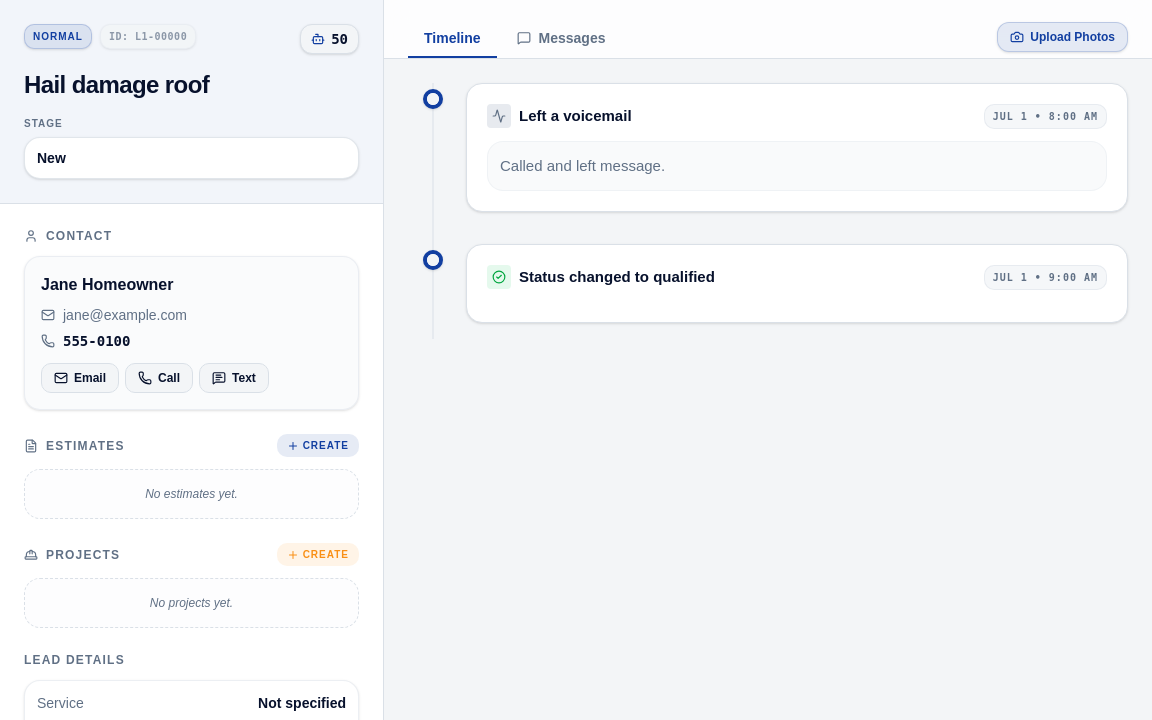
Test: lead detail – Messages tab › shows the empty-state placeholder when no portal or team messages exist
Click the button "Messages": (561, 39) [500, 20, 621, 58]
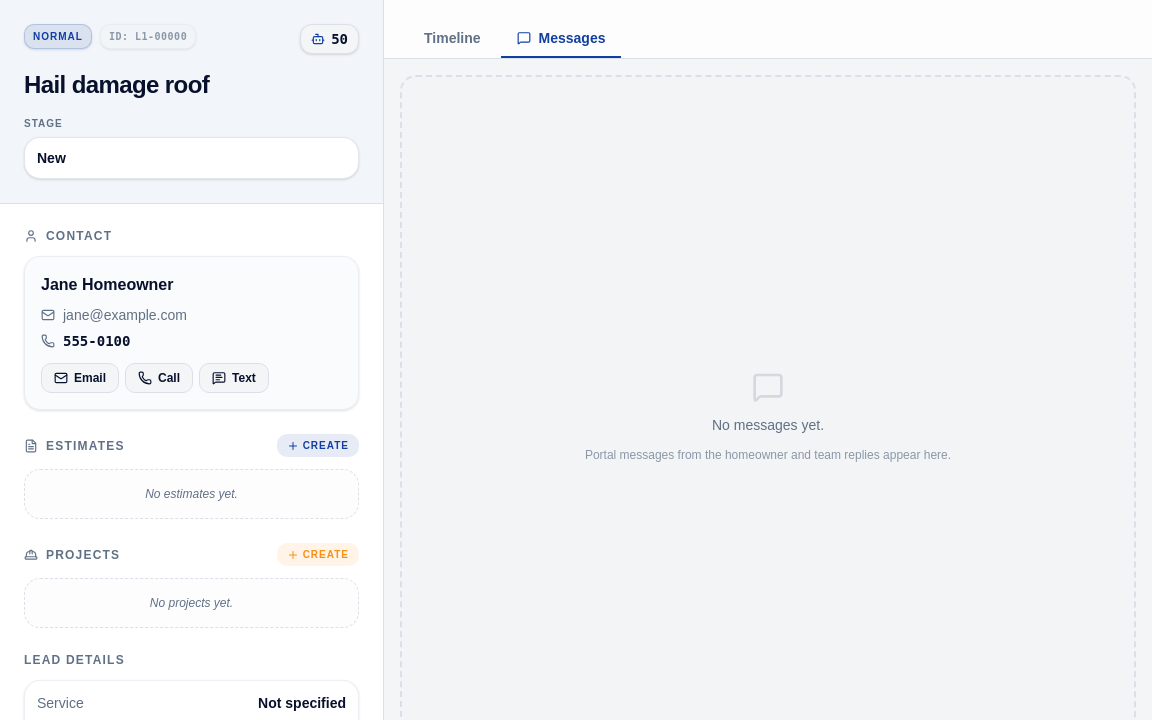
Result: the text "No messages yet." is shown at [712, 415, 824, 435]
Result: the text "Called and left message." is gone
